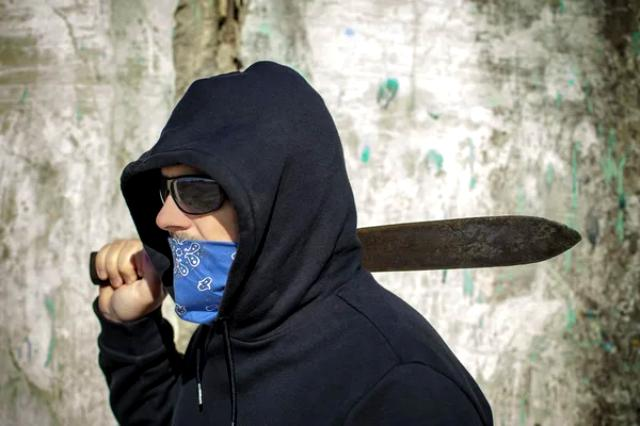long knife: (84, 200, 616, 298)
